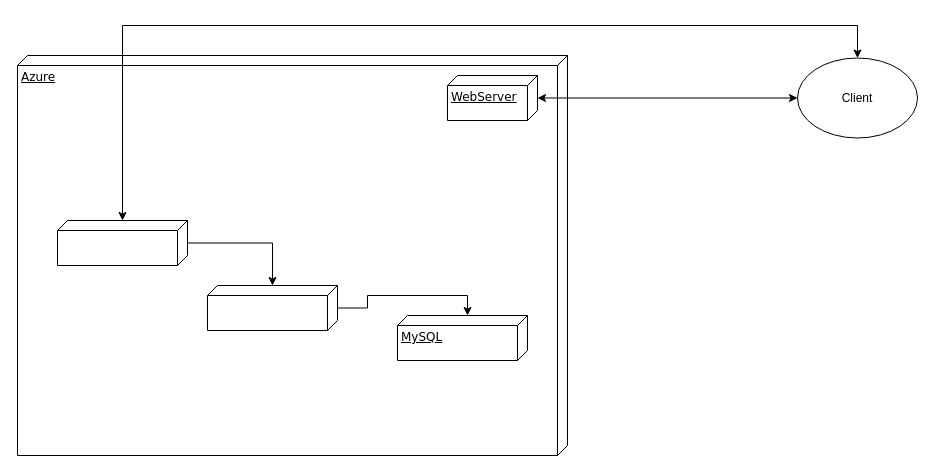
This 935x473 diagram has some shape labels left out. The centre of each missing label's shape, as x and y in pixels:
"nginx" goes at (122,243).
"Server" goes at (272,307).
